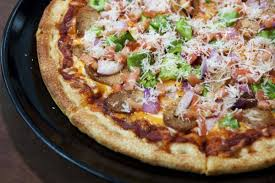pizza: (38, 2, 275, 169)
